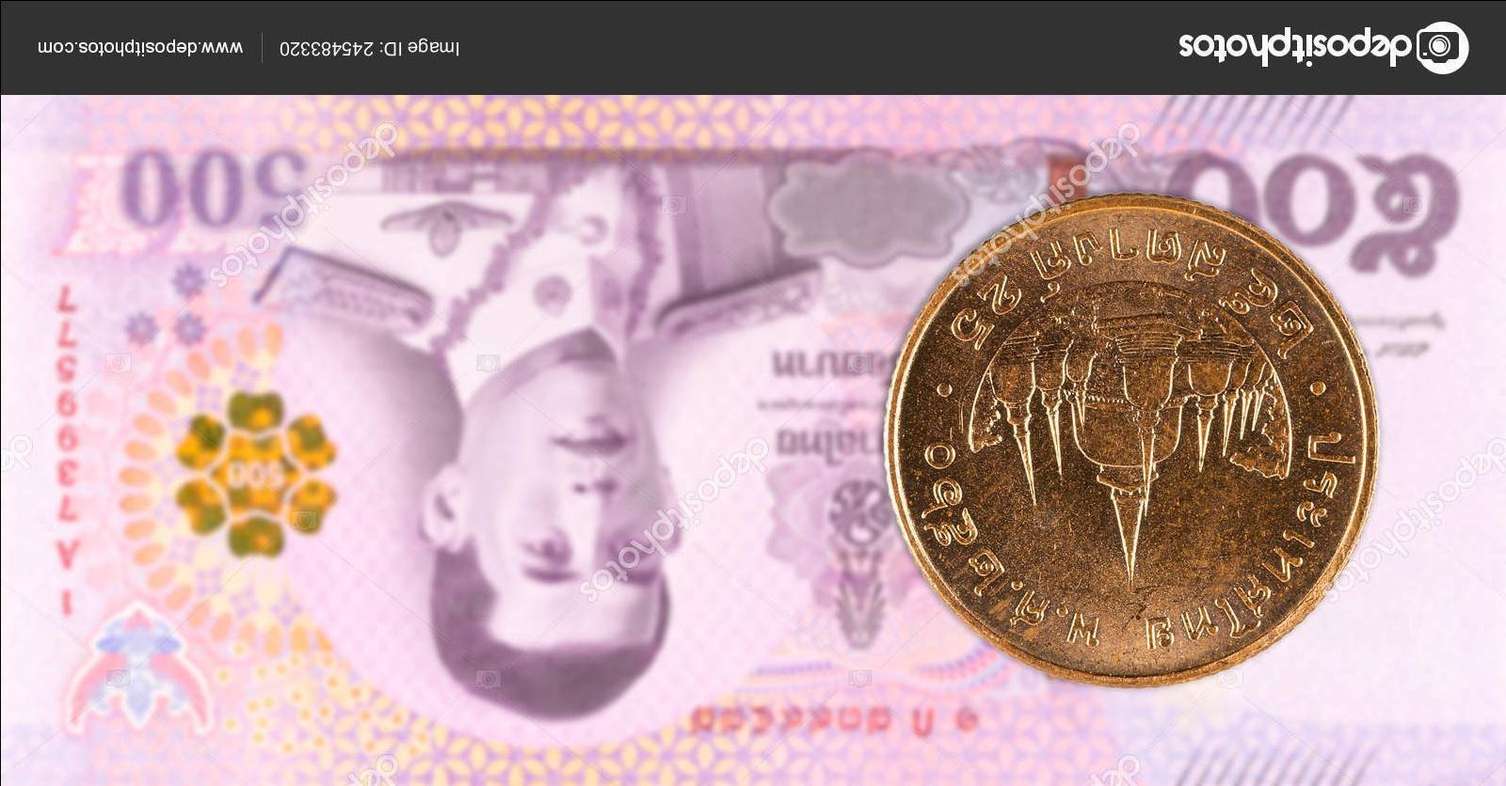500BahtTai: (0, 94, 1506, 786)
